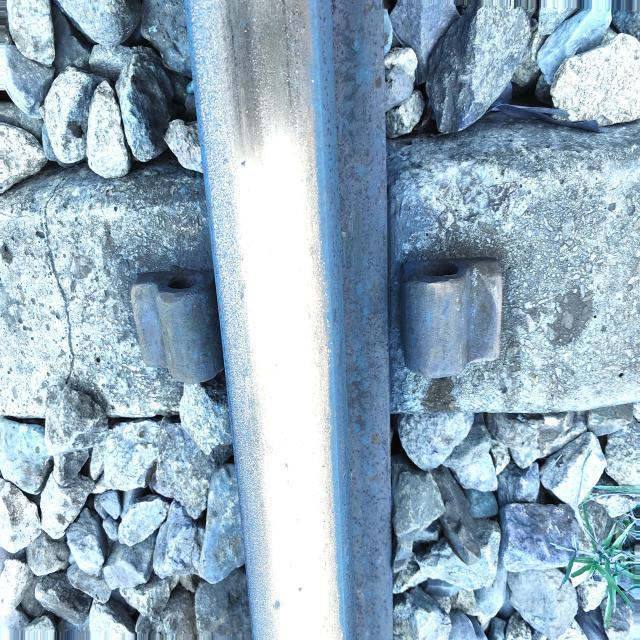Missing Fastener: (380, 225, 528, 396), (99, 259, 225, 396)
